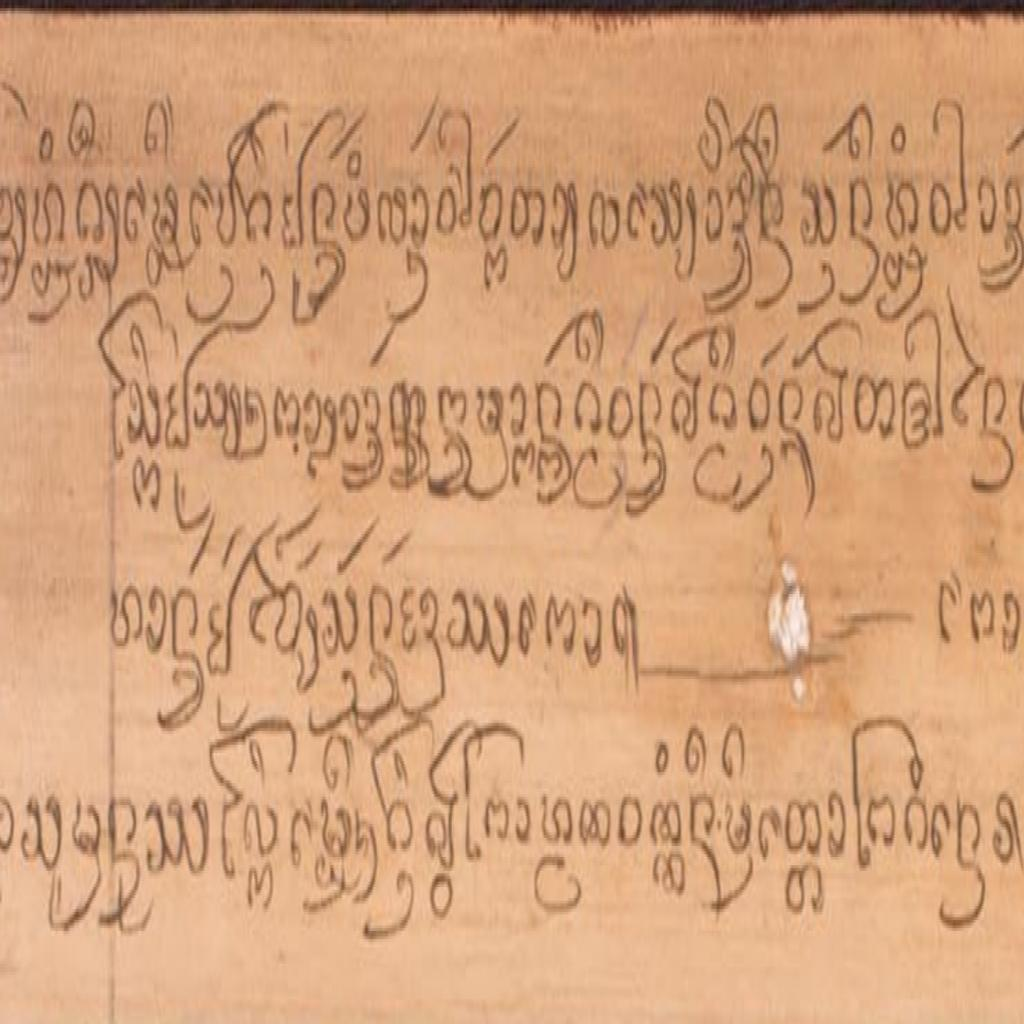LN003: (572, 374, 604, 443)
LN012: (143, 788, 214, 888)
LN023: (687, 786, 719, 878)
